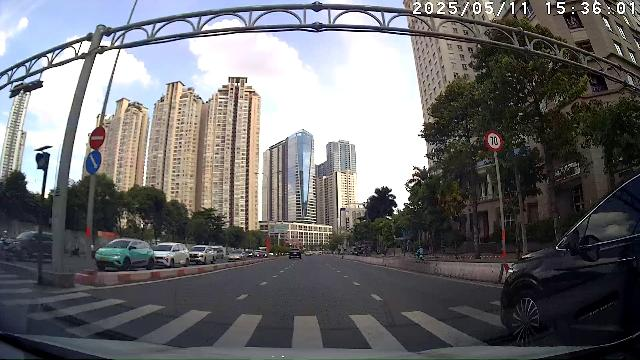102-cam-di-nguoc-chieu: (88, 127, 105, 150)
127-toc-do-toi-da-70: (486, 131, 502, 151)
302a-huong-phai-di-vong-chuong-ngai-vat-1: (86, 151, 102, 173)
